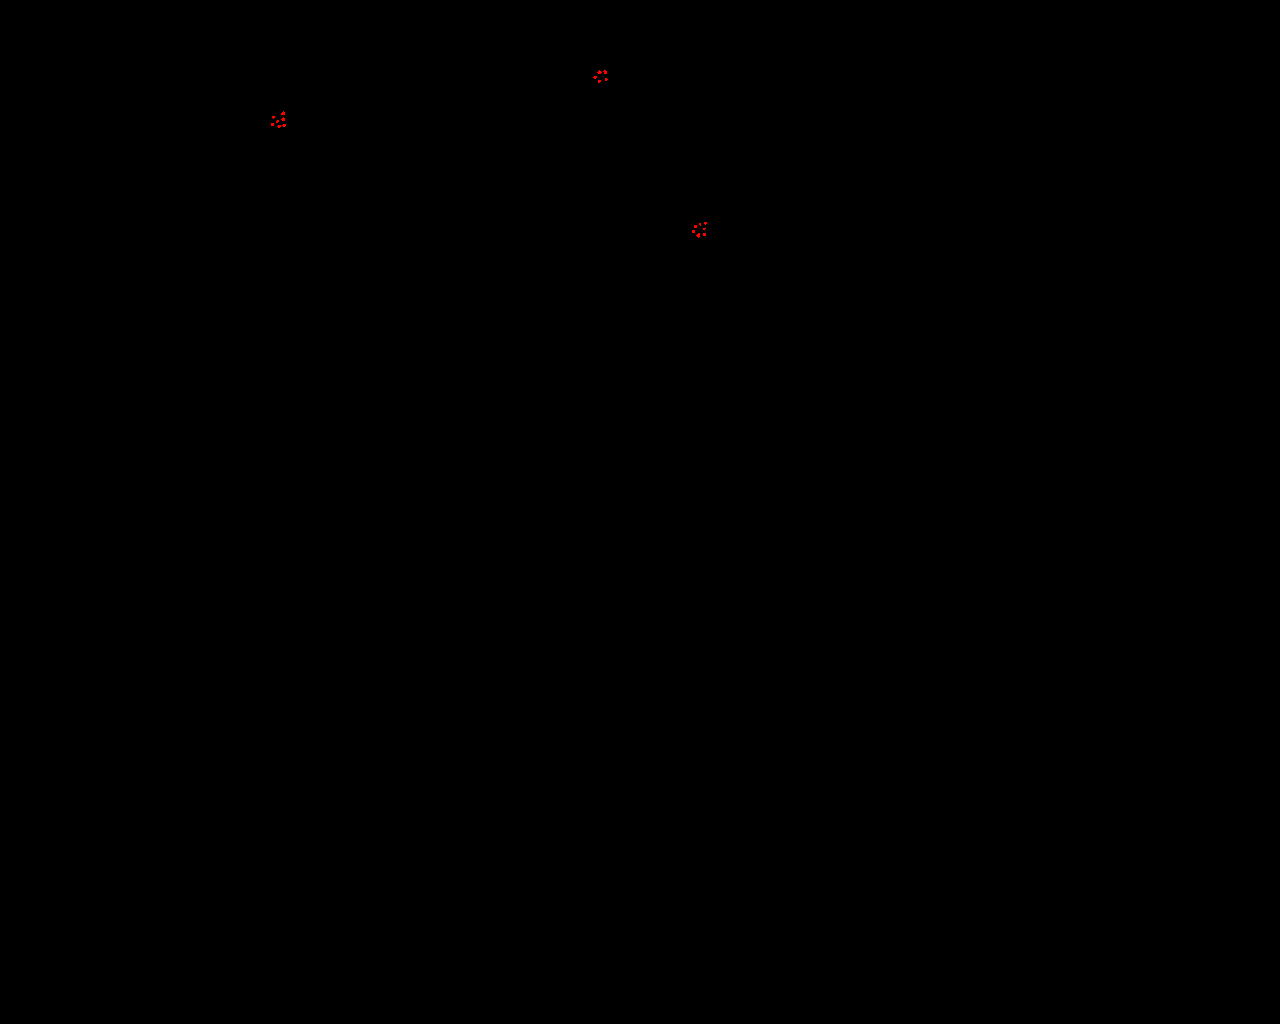Target: (597, 70, 602, 74), (696, 233, 700, 238), (603, 70, 607, 74), (281, 111, 285, 115), (281, 117, 285, 121), (282, 124, 286, 127), (594, 76, 597, 79), (605, 78, 608, 82), (272, 116, 275, 119), (276, 120, 279, 123), (271, 123, 274, 126), (704, 222, 707, 225), (694, 225, 697, 228), (692, 230, 695, 233), (703, 233, 706, 236), (277, 125, 281, 127), (598, 80, 601, 83), (699, 223, 701, 226), (703, 228, 706, 230)
